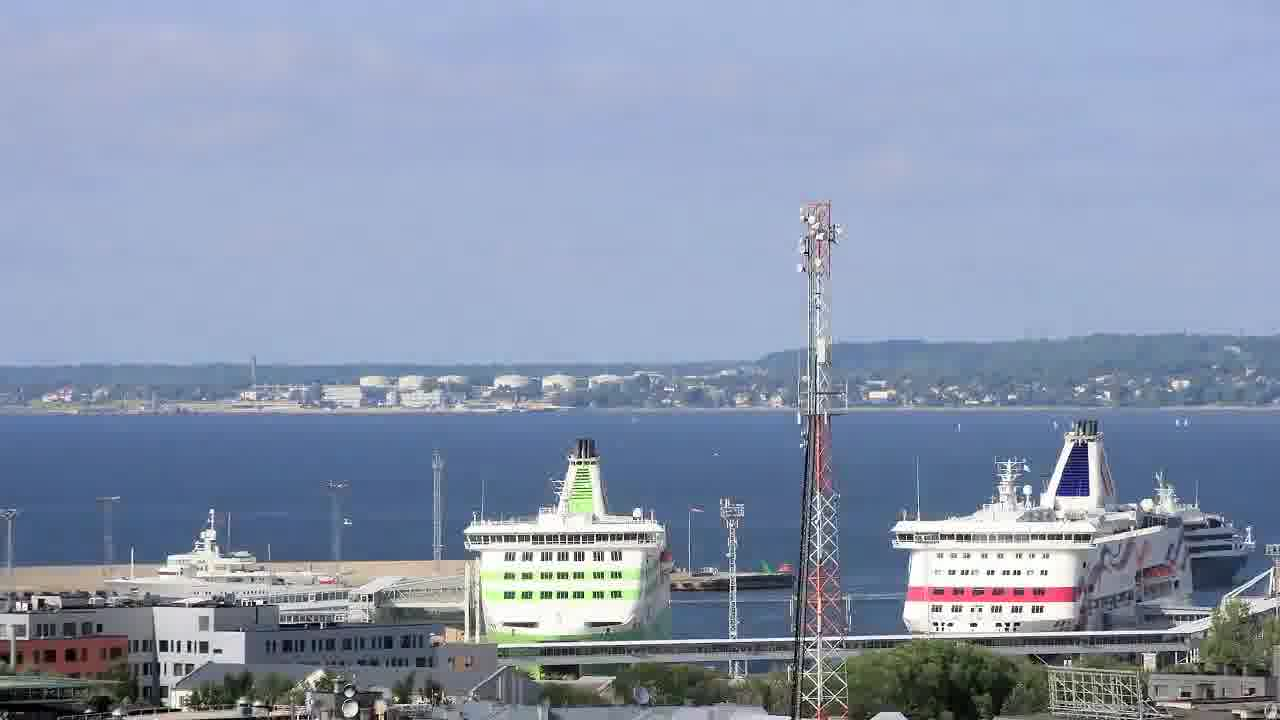type-3: (868, 415, 1225, 638), (436, 434, 694, 670), (86, 517, 334, 604), (1142, 468, 1259, 607)
